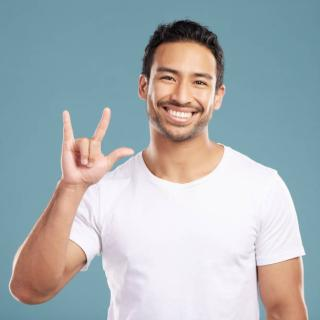I Love You: (51, 94, 142, 198)
